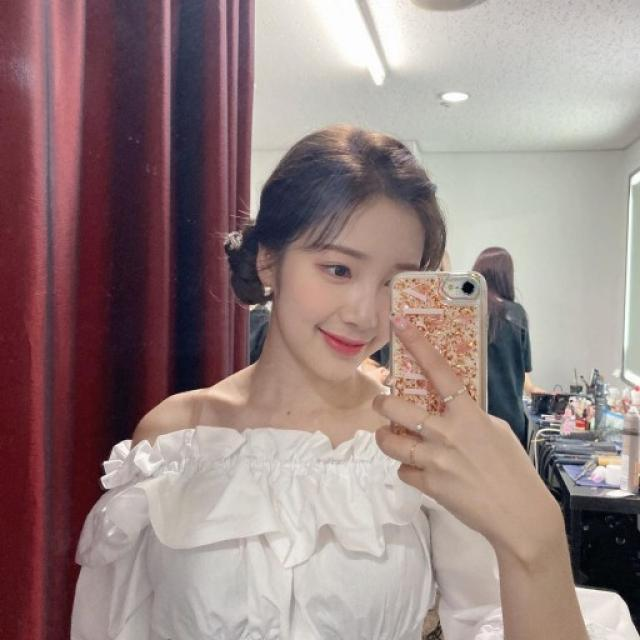lens: (437, 274, 480, 300)
phone: (389, 270, 493, 446)
